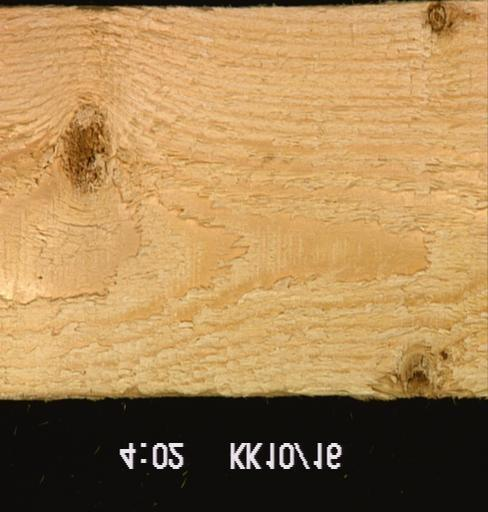edge_knot: (368, 342, 471, 399), (424, 0, 448, 35)
